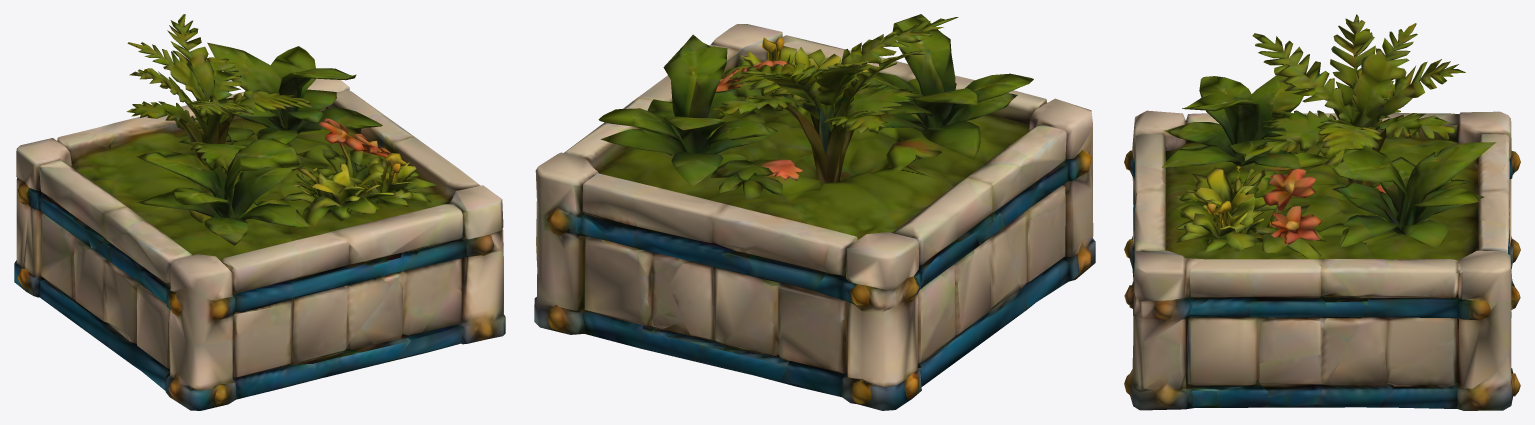
File: st03-modular-planter.glb
3 views of the same model, side by side, from view 1: azimuth 30°, elevation 25°; view 2: azimuth 150°, elevation 25°; view 3: azimuth 270°, elevation 25° (orthographic). The views are drawn at different scales.
Parts seen in each view (by area): view 1: tripo_node_e22fcd1d-6479-4dc3-a721-1e480536d23e; view 2: tripo_node_e22fcd1d-6479-4dc3-a721-1e480536d23e; view 3: tripo_node_e22fcd1d-6479-4dc3-a721-1e480536d23e.
Boxes of the visible parts, x1,y1,x2,y2 form: tripo_node_e22fcd1d-6479-4dc3-a721-1e480536d23e: (14,14,505,410); tripo_node_e22fcd1d-6479-4dc3-a721-1e480536d23e: (534,14,1095,410); tripo_node_e22fcd1d-6479-4dc3-a721-1e480536d23e: (1124,14,1520,410).
Bounding box in the file's own units: 0.9998 × 0.7338 × 0.9998.
1 material, 1 textured.
